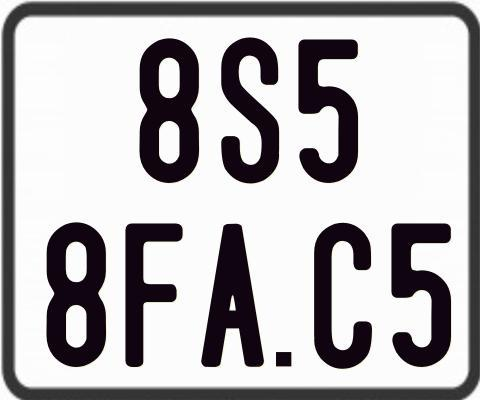5: (296, 36, 358, 185), (388, 221, 451, 365)
8: (136, 37, 201, 186), (46, 220, 108, 370)
A: (201, 222, 266, 370)
C: (312, 223, 375, 369)
F: (125, 221, 187, 365)
S: (221, 35, 282, 184)
